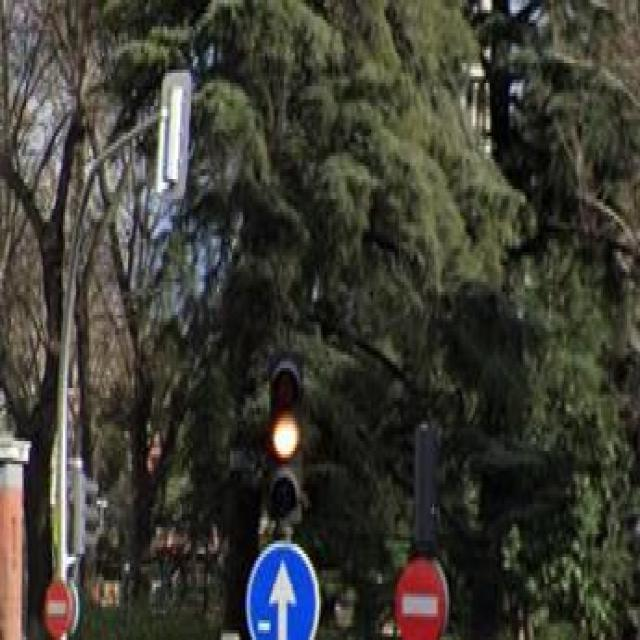yellow_light: (268, 359, 304, 529)
